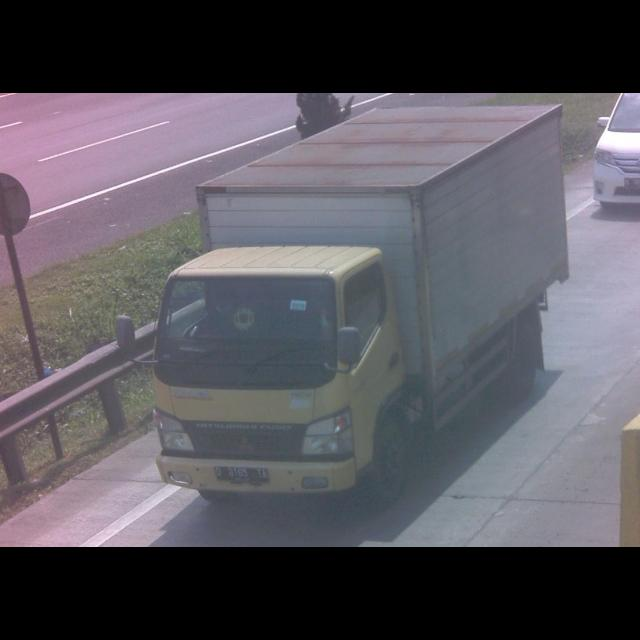plate: (212, 463, 270, 485)
